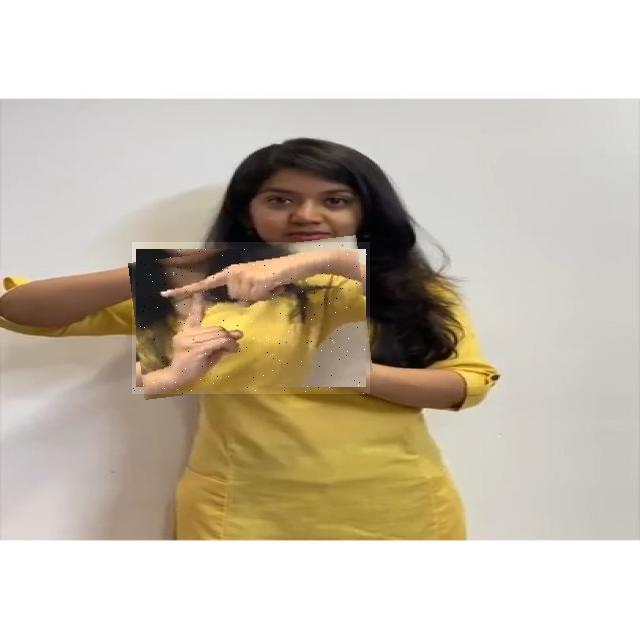T: (132, 242, 370, 394)
